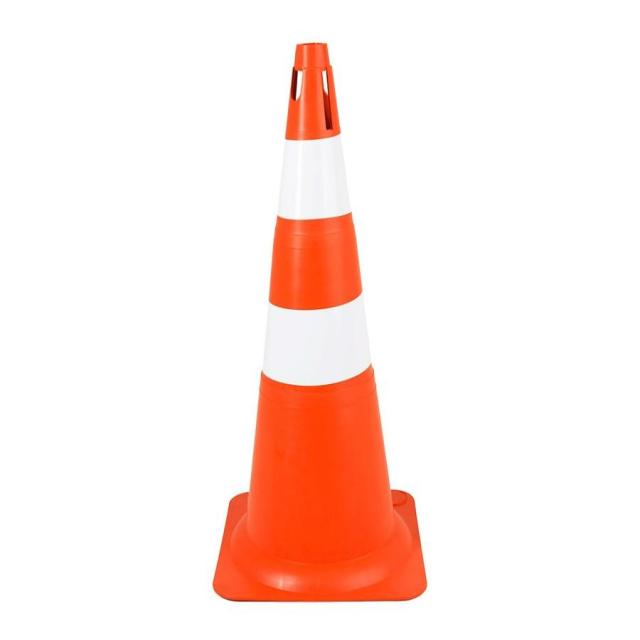cone: (208, 51, 422, 602)
